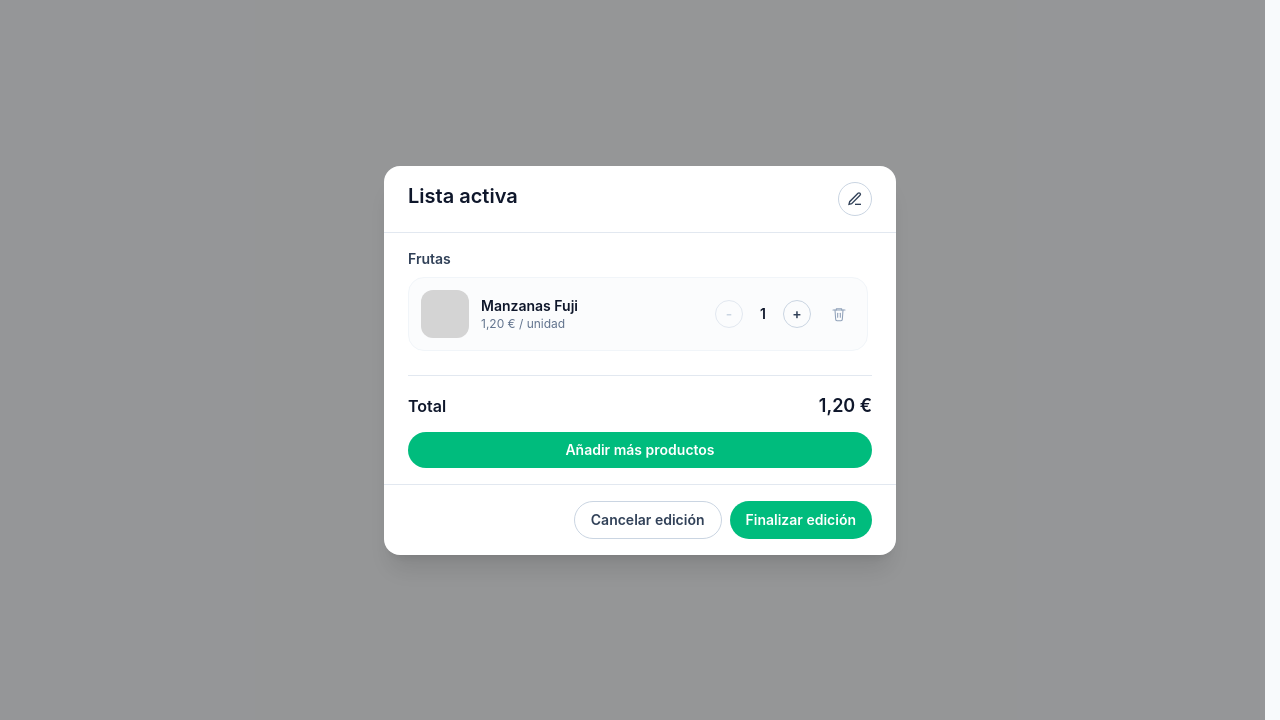
Test: ShoppingList › resetea borrador local al finalizar edición activa
Click the button "Finalizar edición": (801, 520) [730, 500, 872, 538]
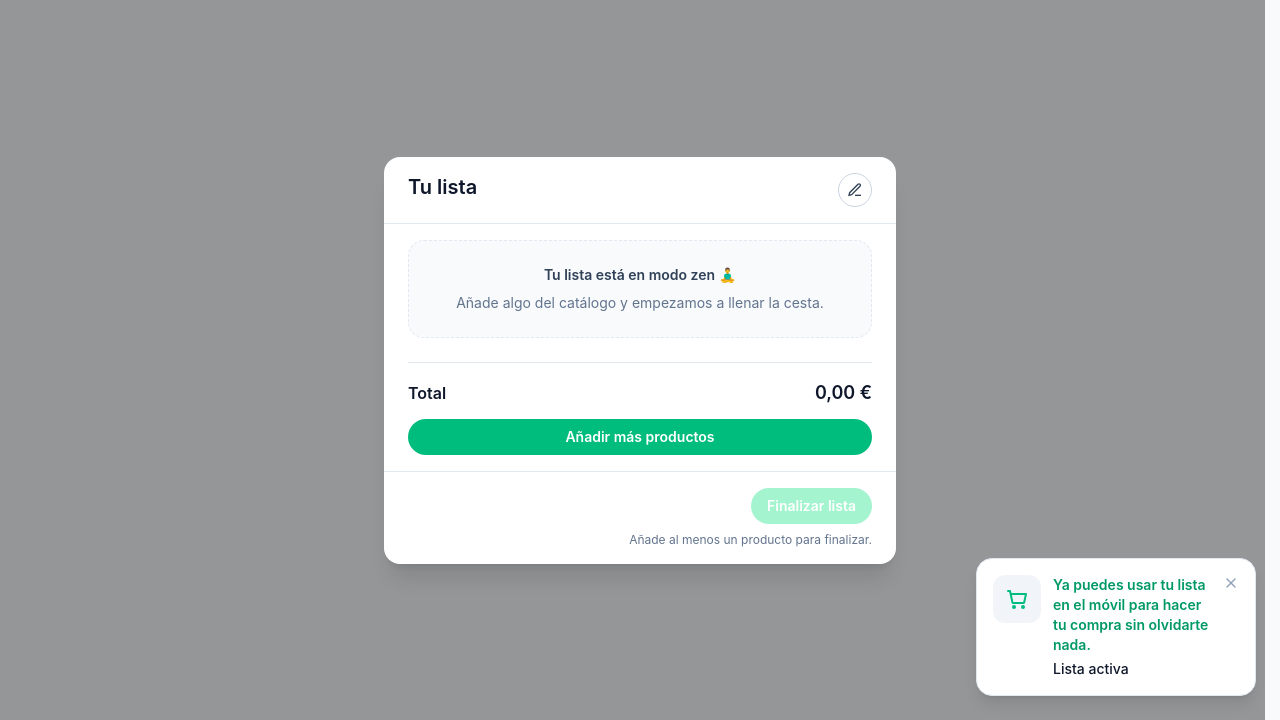
Expected: the text "Tu lista está en modo zen 🧘‍♂️" is shown, [544, 266, 736, 282]
